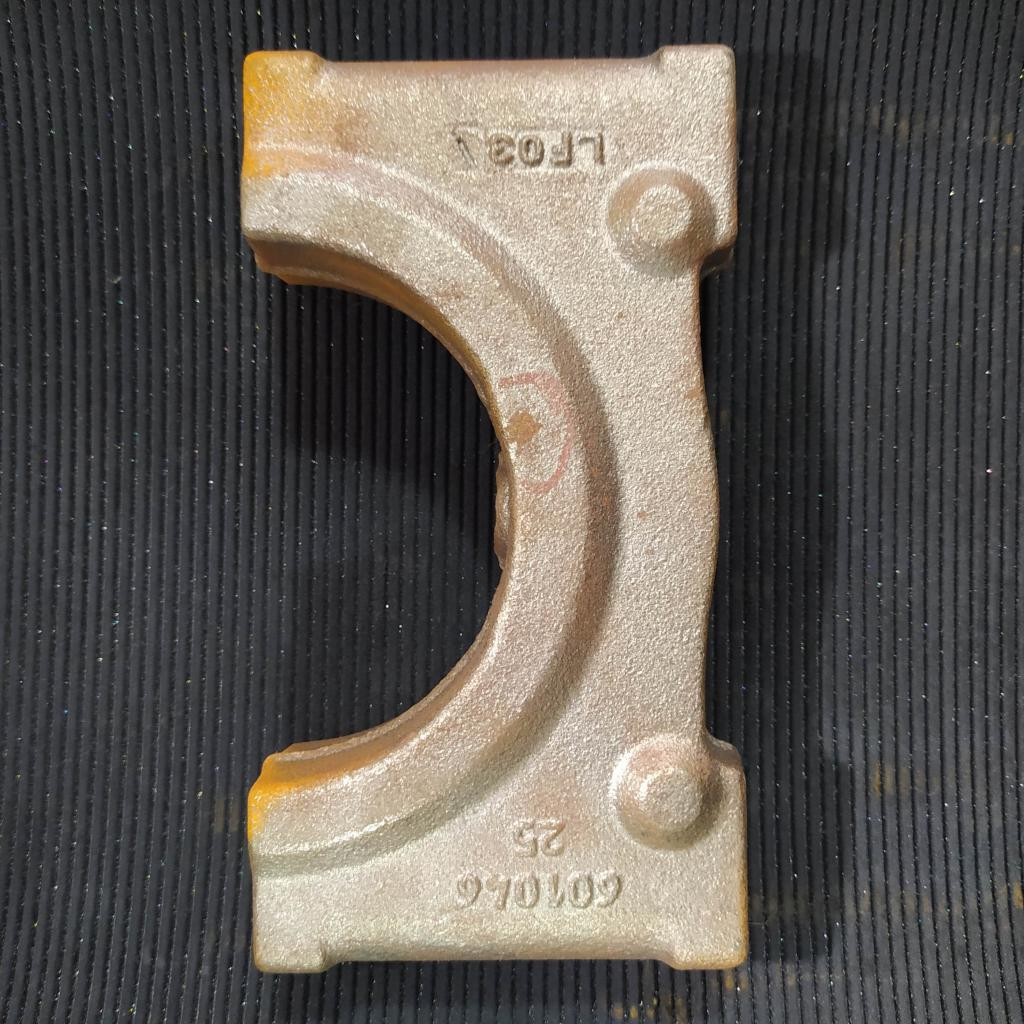mancha (ferrugem): (502, 409, 547, 450)
